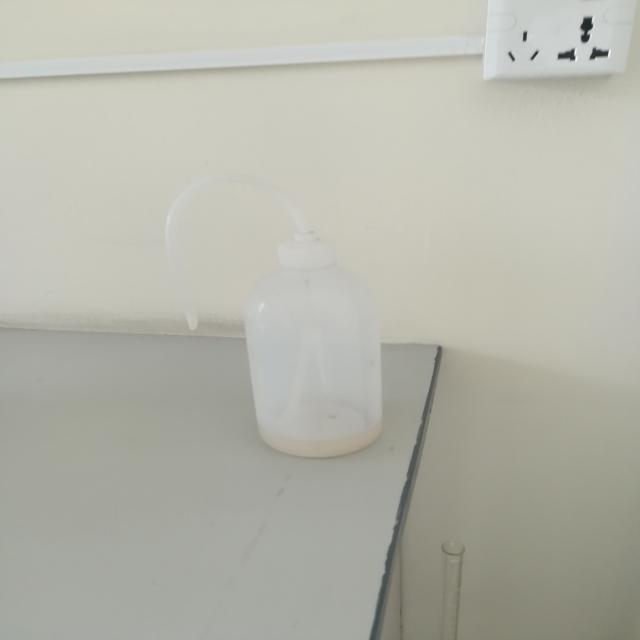Wash_Bottle: (123, 144, 418, 466)
